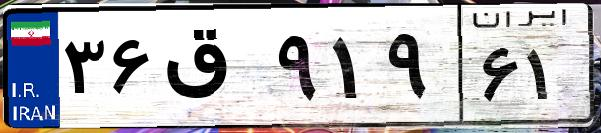1: (330, 28, 385, 110), (525, 38, 570, 115)
3: (57, 26, 110, 100)
6: (475, 38, 525, 113), (110, 28, 158, 98)
9: (270, 28, 330, 110), (385, 28, 445, 110)
ق: (158, 20, 270, 120)
